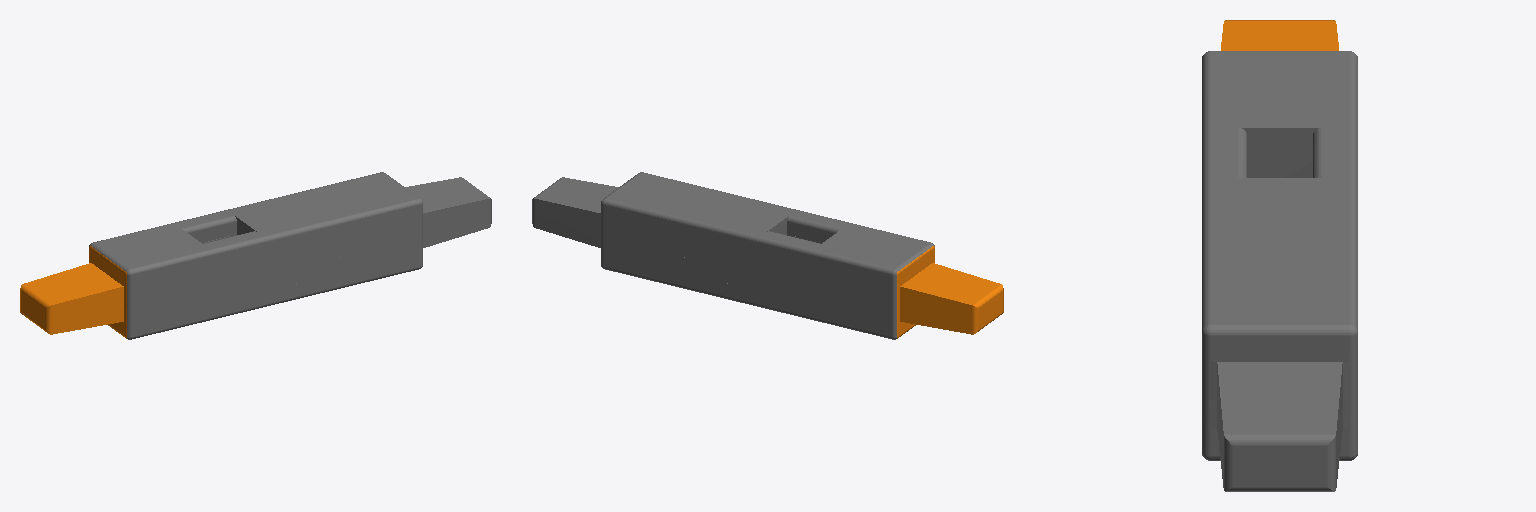
The robot description file, URDF, robot "beam_3x_2_sdf_hybrid_matchedmass":
<?xml version="1.0" encoding="utf-8"?>
<robot name="beam_3x_2_sdf_hybrid_matchedmass">
  <link name="base_link">
    <inertial>
      <!-- measured: 68.57 g -->
      <mass value="0.068570"/>
      <origin xyz="0.002767 -0.000000 0.000034" rpy="0 0 0"/>
      <inertia ixx="1.322114e-05" ixy="1.702667e-12" ixz="9.878826e-08" iyy="2.235268e-04" iyz="-5.800965e-12" izz="2.249660e-04"/>
    </inertial>
  </link>
  <material name="tip">
    <color rgba="0.95 0.55 0.10 1.0"/>
  </material>
  <material name="body">
    <color rgba="0.50 0.50 0.50 1.0"/>
  </material>
  <link name="tip_link">
    <visual>
      <origin xyz="0.000000 0.000000 0.000000" rpy="0.000000 0.000000 0.000000"/>
      <geometry>
        <mesh filename="2_tip.obj" scale="1 1 1"/>
      </geometry>
      <material name="tip"/>
    </visual>
    <collision>
      <origin xyz="0.000000 0.000000 0.000000" rpy="0.000000 0.000000 0.000000"/>
      <geometry>
        <mesh filename="2_tip.obj" scale="1 1 1"/>
      </geometry>
      <sdf resolution="256"/>
    </collision>
  </link>
  <joint name="base_to_tip" type="fixed">
    <parent link="base_link"/>
    <child link="tip_link"/>
    <origin xyz="0 0 0" rpy="0 0 0"/>
  </joint>
  <link name="body_link">
    <visual>
      <origin xyz="0.000000 0.000000 0.000000" rpy="0.000000 0.000000 0.000000"/>
      <geometry>
        <mesh filename="coacd/decomp_0.obj" scale="1 1 1"/>
      </geometry>
      <material name="body"/>
    </visual>
    <collision>
      <origin xyz="0.000000 0.000000 0.000000" rpy="0.000000 0.000000 0.000000"/>
      <geometry>
        <mesh filename="coacd/decomp_0.obj" scale="1 1 1"/>
      </geometry>
    </collision>
    <visual>
      <origin xyz="0.000000 0.000000 0.000000" rpy="0.000000 0.000000 0.000000"/>
      <geometry>
        <mesh filename="coacd/decomp_1.obj" scale="1 1 1"/>
      </geometry>
      <material name="body"/>
    </visual>
    <collision>
      <origin xyz="0.000000 0.000000 0.000000" rpy="0.000000 0.000000 0.000000"/>
      <geometry>
        <mesh filename="coacd/decomp_1.obj" scale="1 1 1"/>
      </geometry>
    </collision>
    <visual>
      <origin xyz="0.000000 0.000000 0.000000" rpy="0.000000 0.000000 0.000000"/>
      <geometry>
        <mesh filename="coacd/decomp_10.obj" scale="1 1 1"/>
      </geometry>
      <material name="body"/>
    </visual>
    <collision>
      <origin xyz="0.000000 0.000000 0.000000" rpy="0.000000 0.000000 0.000000"/>
      <geometry>
        <mesh filename="coacd/decomp_10.obj" scale="1 1 1"/>
      </geometry>
    </collision>
    <visual>
      <origin xyz="0.000000 0.000000 0.000000" rpy="0.000000 0.000000 0.000000"/>
      <geometry>
        <mesh filename="coacd/decomp_11.obj" scale="1 1 1"/>
      </geometry>
      <material name="body"/>
    </visual>
    <collision>
      <origin xyz="0.000000 0.000000 0.000000" rpy="0.000000 0.000000 0.000000"/>
      <geometry>
        <mesh filename="coacd/decomp_11.obj" scale="1 1 1"/>
      </geometry>
    </collision>
    <visual>
      <origin xyz="0.000000 0.000000 0.000000" rpy="0.000000 0.000000 0.000000"/>
      <geometry>
        <mesh filename="coacd/decomp_12.obj" scale="1 1 1"/>
      </geometry>
      <material name="body"/>
    </visual>
    <collision>
      <origin xyz="0.000000 0.000000 0.000000" rpy="0.000000 0.000000 0.000000"/>
      <geometry>
        <mesh filename="coacd/decomp_12.obj" scale="1 1 1"/>
      </geometry>
    </collision>
    <visual>
      <origin xyz="0.000000 0.000000 0.000000" rpy="0.000000 0.000000 0.000000"/>
      <geometry>
        <mesh filename="coacd/decomp_13.obj" scale="1 1 1"/>
      </geometry>
      <material name="body"/>
    </visual>
    <collision>
      <origin xyz="0.000000 0.000000 0.000000" rpy="0.000000 0.000000 0.000000"/>
      <geometry>
        <mesh filename="coacd/decomp_13.obj" scale="1 1 1"/>
      </geometry>
    </collision>
    <visual>
      <origin xyz="0.000000 0.000000 0.000000" rpy="0.000000 0.000000 0.000000"/>
      <geometry>
        <mesh filename="coacd/decomp_14.obj" scale="1 1 1"/>
      </geometry>
      <material name="body"/>
    </visual>
    <collision>
      <origin xyz="0.000000 0.000000 0.000000" rpy="0.000000 0.000000 0.000000"/>
      <geometry>
        <mesh filename="coacd/decomp_14.obj" scale="1 1 1"/>
      </geometry>
    </collision>
    <visual>
      <origin xyz="0.000000 0.000000 0.000000" rpy="0.000000 0.000000 0.000000"/>
      <geometry>
        <mesh filename="coacd/decomp_15.obj" scale="1 1 1"/>
      </geometry>
      <material name="body"/>
    </visual>
    <collision>
      <origin xyz="0.000000 0.000000 0.000000" rpy="0.000000 0.000000 0.000000"/>
      <geometry>
        <mesh filename="coacd/decomp_15.obj" scale="1 1 1"/>
      </geometry>
    </collision>
    <visual>
      <origin xyz="0.000000 0.000000 0.000000" rpy="0.000000 0.000000 0.000000"/>
      <geometry>
        <mesh filename="coacd/decomp_16.obj" scale="1 1 1"/>
      </geometry>
      <material name="body"/>
    </visual>
    <collision>
      <origin xyz="0.000000 0.000000 0.000000" rpy="0.000000 0.000000 0.000000"/>
      <geometry>
        <mesh filename="coacd/decomp_16.obj" scale="1 1 1"/>
      </geometry>
    </collision>
    <visual>
      <origin xyz="0.000000 0.000000 0.000000" rpy="0.000000 0.000000 0.000000"/>
      <geometry>
        <mesh filename="coacd/decomp_2.obj" scale="1 1 1"/>
      </geometry>
      <material name="body"/>
    </visual>
    <collision>
      <origin xyz="0.000000 0.000000 0.000000" rpy="0.000000 0.000000 0.000000"/>
      <geometry>
        <mesh filename="coacd/decomp_2.obj" scale="1 1 1"/>
      </geometry>
    </collision>
    <visual>
      <origin xyz="0.000000 0.000000 0.000000" rpy="0.000000 0.000000 0.000000"/>
      <geometry>
        <mesh filename="coacd/decomp_3.obj" scale="1 1 1"/>
      </geometry>
      <material name="body"/>
    </visual>
    <collision>
      <origin xyz="0.000000 0.000000 0.000000" rpy="0.000000 0.000000 0.000000"/>
      <geometry>
        <mesh filename="coacd/decomp_3.obj" scale="1 1 1"/>
      </geometry>
    </collision>
    <visual>
      <origin xyz="0.000000 0.000000 0.000000" rpy="0.000000 0.000000 0.000000"/>
      <geometry>
        <mesh filename="coacd/decomp_4.obj" scale="1 1 1"/>
      </geometry>
      <material name="body"/>
    </visual>
    <collision>
      <origin xyz="0.000000 0.000000 0.000000" rpy="0.000000 0.000000 0.000000"/>
      <geometry>
        <mesh filename="coacd/decomp_4.obj" scale="1 1 1"/>
      </geometry>
    </collision>
    <visual>
      <origin xyz="0.000000 0.000000 0.000000" rpy="0.000000 0.000000 0.000000"/>
      <geometry>
        <mesh filename="coacd/decomp_5.obj" scale="1 1 1"/>
      </geometry>
      <material name="body"/>
    </visual>
    <collision>
      <origin xyz="0.000000 0.000000 0.000000" rpy="0.000000 0.000000 0.000000"/>
      <geometry>
        <mesh filename="coacd/decomp_5.obj" scale="1 1 1"/>
      </geometry>
    </collision>
    <visual>
      <origin xyz="0.000000 0.000000 0.000000" rpy="0.000000 0.000000 0.000000"/>
      <geometry>
        <mesh filename="coacd/decomp_6.obj" scale="1 1 1"/>
      </geometry>
      <material name="body"/>
    </visual>
    <collision>
      <origin xyz="0.000000 0.000000 0.000000" rpy="0.000000 0.000000 0.000000"/>
      <geometry>
        <mesh filename="coacd/decomp_6.obj" scale="1 1 1"/>
      </geometry>
    </collision>
    <visual>
      <origin xyz="0.000000 0.000000 0.000000" rpy="0.000000 0.000000 0.000000"/>
      <geometry>
        <mesh filename="coacd/decomp_7.obj" scale="1 1 1"/>
      </geometry>
      <material name="body"/>
    </visual>
    <collision>
      <origin xyz="0.000000 0.000000 0.000000" rpy="0.000000 0.000000 0.000000"/>
      <geometry>
        <mesh filename="coacd/decomp_7.obj" scale="1 1 1"/>
      </geometry>
    </collision>
    <visual>
      <origin xyz="0.000000 0.000000 0.000000" rpy="0.000000 0.000000 0.000000"/>
      <geometry>
        <mesh filename="coacd/decomp_8.obj" scale="1 1 1"/>
      </geometry>
      <material name="body"/>
    </visual>
    <collision>
      <origin xyz="0.000000 0.000000 0.000000" rpy="0.000000 0.000000 0.000000"/>
      <geometry>
        <mesh filename="coacd/decomp_8.obj" scale="1 1 1"/>
      </geometry>
    </collision>
    <visual>
      <origin xyz="0.000000 0.000000 0.000000" rpy="0.000000 0.000000 0.000000"/>
      <geometry>
        <mesh filename="coacd/decomp_9.obj" scale="1 1 1"/>
      </geometry>
      <material name="body"/>
    </visual>
    <collision>
      <origin xyz="0.000000 0.000000 0.000000" rpy="0.000000 0.000000 0.000000"/>
      <geometry>
        <mesh filename="coacd/decomp_9.obj" scale="1 1 1"/>
      </geometry>
    </collision>
  </link>
  <joint name="base_to_body" type="fixed">
    <parent link="base_link"/>
    <child link="body_link"/>
    <origin xyz="0 0 0" rpy="0 0 0"/>
  </joint>
</robot>

--- Render facts (derived) ---
Views: 3 orthographic renders of the robot side by side, from view 1: azimuth 30°, elevation 25°; view 2: azimuth 150°, elevation 25°; view 3: azimuth 270°, elevation 25°.
Model beam_3x_2_sdf_hybrid_matchedmass with 3 links and 2 joints (2 fixed), rooted at base_link, posed all joints at 0.
Visible links, largest first — view 1: body_link, tip_link; view 2: body_link, tip_link; view 3: body_link, tip_link.
Boxes of the visible links, <box> form: body_link: <box>89,172,491,339</box>; tip_link: <box>20,246,126,338</box>; body_link: <box>532,172,934,339</box>; tip_link: <box>897,246,1003,338</box>; body_link: <box>1202,51,1357,491</box>; tip_link: <box>1221,20,1338,50</box>.
Size in the robot's own frame: 0.2286 by 0.036 by 0.0345 metres.
18 mesh visuals loaded from 18 distinct referenced files (18 OBJ).
